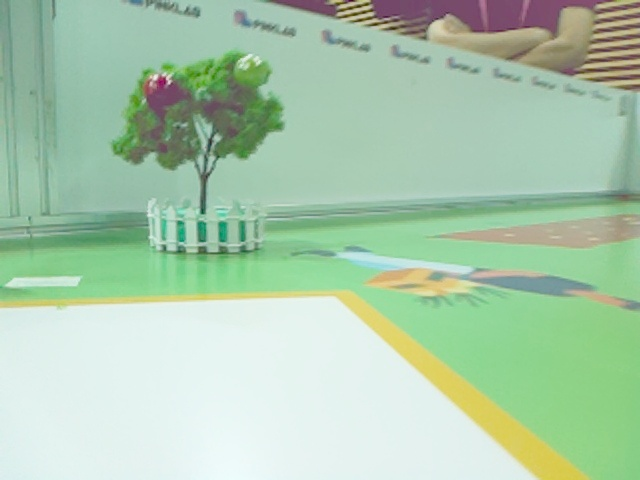apple: (142, 68, 188, 117)
